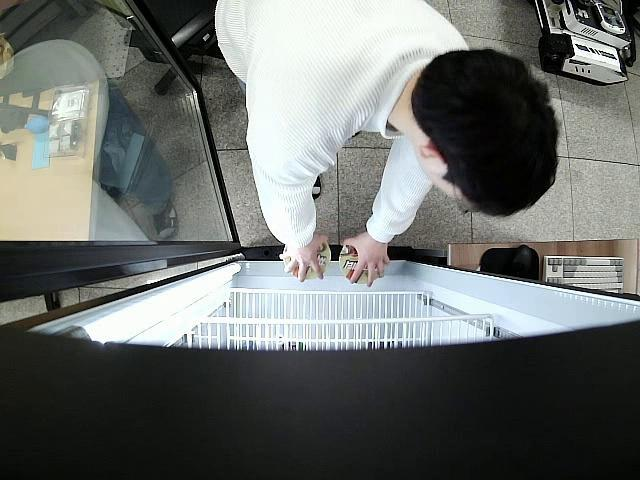03_chapagetti_L: (282, 243, 331, 282), (339, 244, 382, 283)
